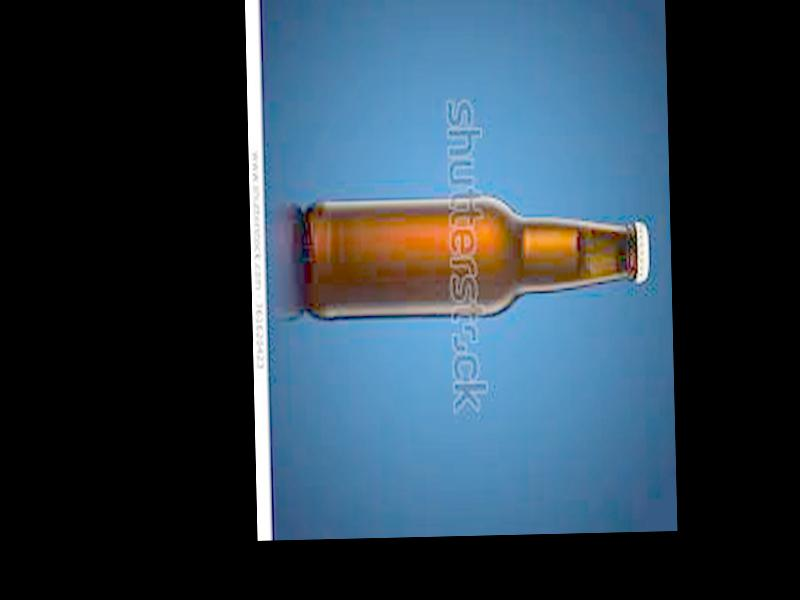Beer: (302, 192, 651, 322)
